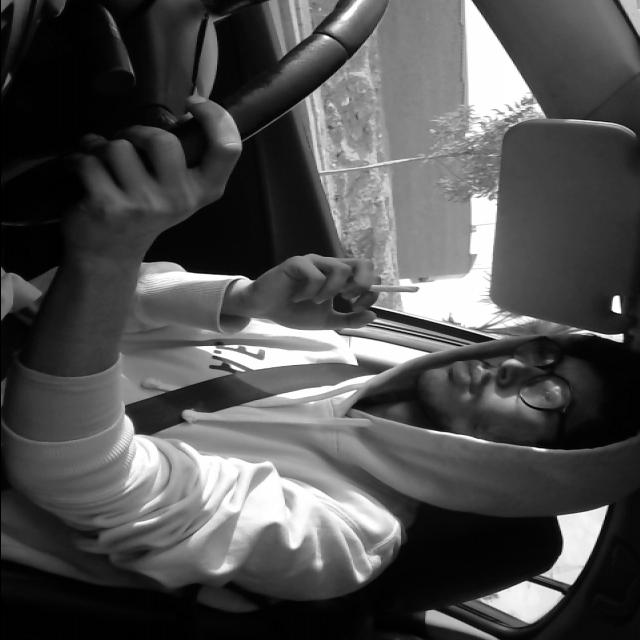smoking: (318, 271, 422, 303)
